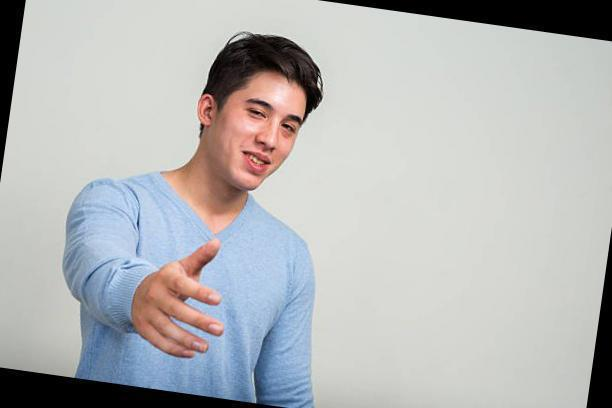Drunk: (229, 73, 301, 193)
